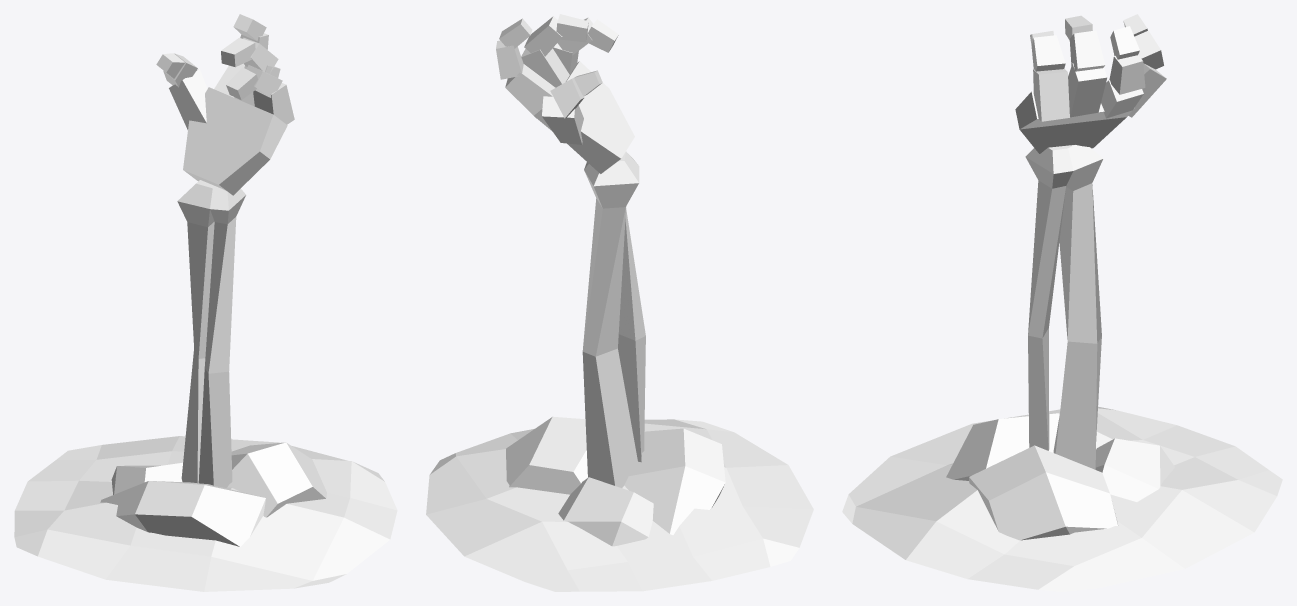
Rendered from rise_hand.fbx.
The picture shows the model from 3 angles, left to right: view 1: azimuth 30°, elevation 25°; view 2: azimuth 150°, elevation 25°; view 3: azimuth 270°, elevation 25°; orthographic projection. The views are drawn at different scales.
Visible parts, largest first — view 1: Skeleton arm_up.005; view 2: Skeleton arm_up.005; view 3: Skeleton arm_up.005.
Boxes of the visible parts, x1,y1,x2,y2 form: Skeleton arm_up.005: (14,14,397,591); Skeleton arm_up.005: (426,14,813,591); Skeleton arm_up.005: (842,14,1282,591).
Bounding box in the file's own units: 12.06 × 15.37 × 12.06.
